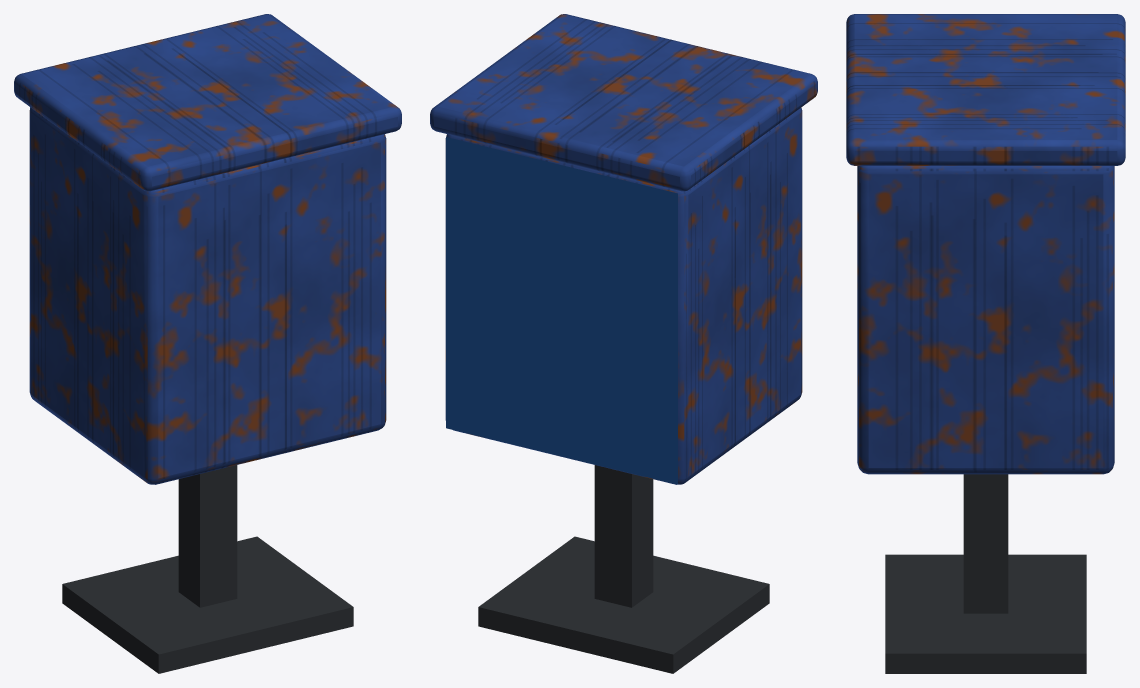
File: newsbox.glb
3 views of the same model, side by side, from view 1: azimuth 30°, elevation 25°; view 2: azimuth 150°, elevation 25°; view 3: azimuth 270°, elevation 25° (orthographic). The views are drawn at different scales.
Visible parts, largest first — view 1: newsbox; view 2: newsbox; view 3: newsbox.
Boxes of the visible parts, x1,y1,x2,y2 form: newsbox: (14, 14, 401, 673); newsbox: (430, 14, 817, 673); newsbox: (846, 14, 1125, 673).
Size of the model in its own units: 0.56 by 1.08 by 0.5.
Materials: 3 (2 with a texture image).
